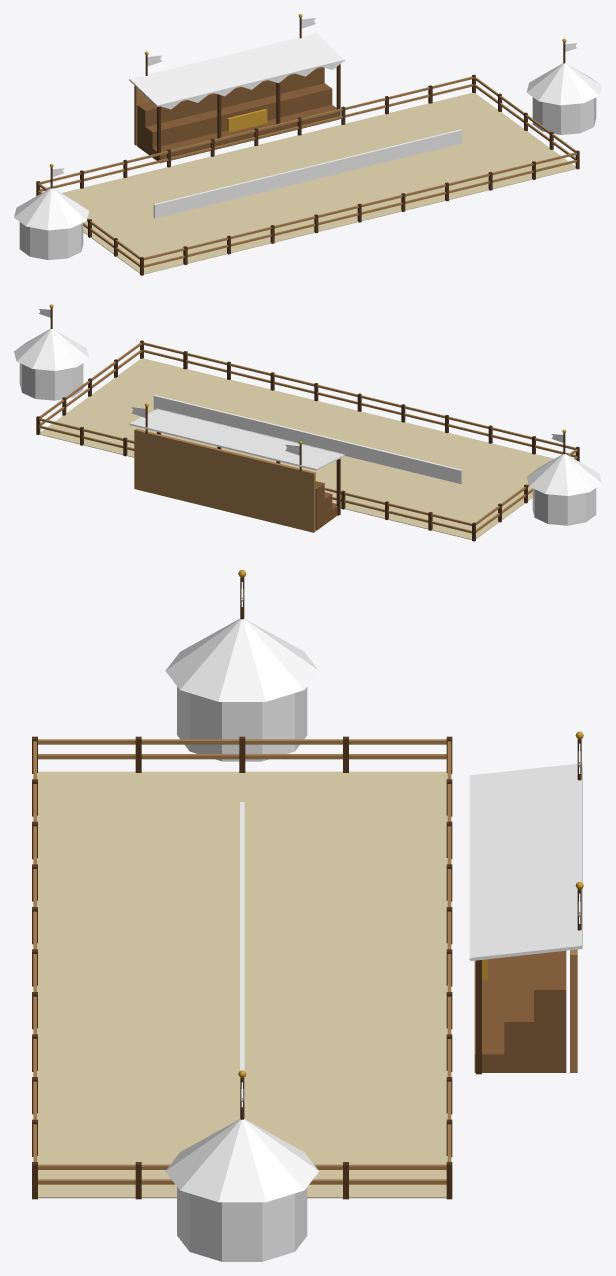
The model's file is building_tourney_ground.glb.
3 renders of one model, top to bottom at view 1: azimuth 30°, elevation 25°; view 2: azimuth 150°, elevation 25°; view 3: azimuth 270°, elevation 25°, orthographic. The views are drawn at different scales.
Parts seen in each view (by area): view 1: building_tourney_ground; view 2: building_tourney_ground; view 3: building_tourney_ground.
Part boxes in pixels (x1=…): building_tourney_ground: x1=14, y1=14, x2=601, y2=275; building_tourney_ground: x1=14, y1=304, x2=601, y2=541; building_tourney_ground: x1=32, y1=570, x2=583, y2=1261.
Size of the model in its own units: 44.95 by 6.66 by 18.64.
